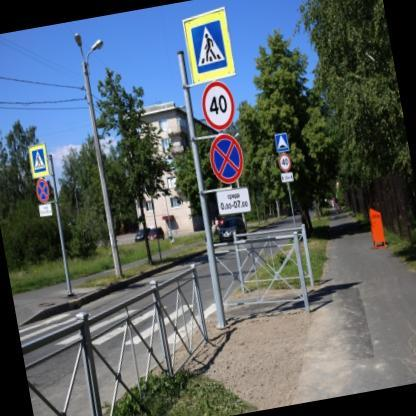road_sign: (182, 7, 233, 84), (209, 134, 243, 183), (203, 81, 233, 131), (29, 145, 47, 178), (33, 178, 52, 203), (276, 152, 291, 172), (275, 133, 288, 151)
